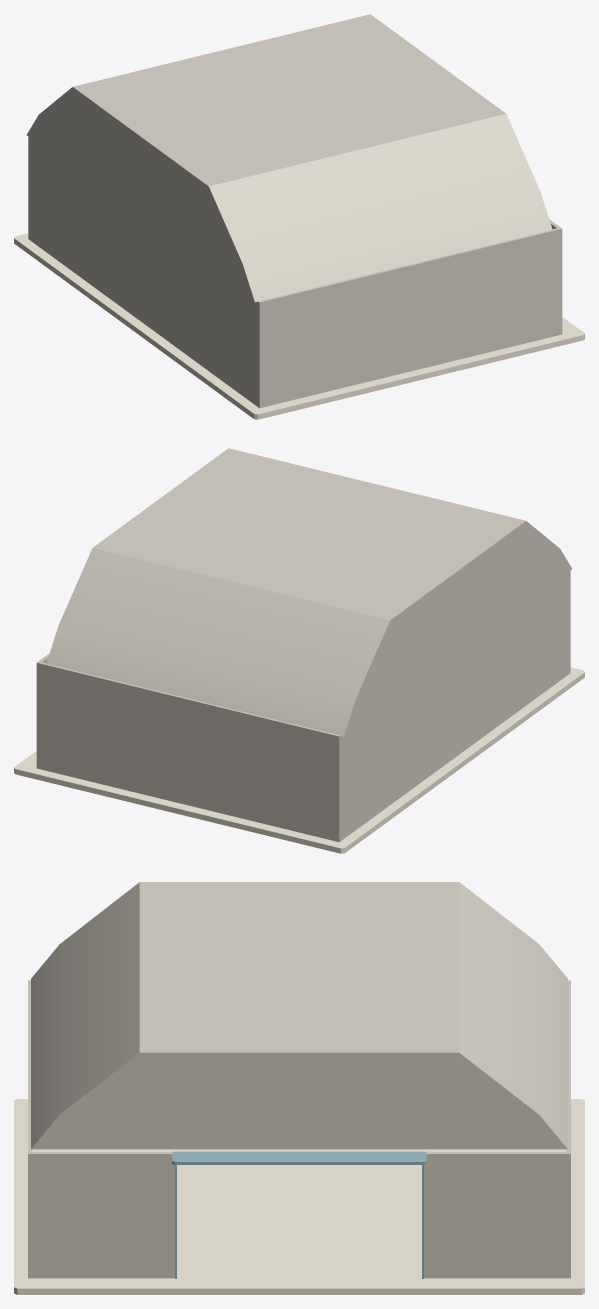
Rendered from Spaceport_Hangar_v4_ShadowProxy.glb.
3 renders of one model, top to bottom at view 1: azimuth 30°, elevation 25°; view 2: azimuth 150°, elevation 25°; view 3: azimuth 270°, elevation 25°, orthographic. The views are drawn at different scales.
Visible parts, largest first — view 1: Spaceport_Hangar_v4_ShadowProxy / Roof, Spaceport_Hangar_v4_ShadowProxy / Structure, Spaceport_Hangar_v4_ShadowProxy / Foundation; view 2: Spaceport_Hangar_v4_ShadowProxy / Roof, Spaceport_Hangar_v4_ShadowProxy / Structure, Spaceport_Hangar_v4_ShadowProxy / Foundation; view 3: Spaceport_Hangar_v4_ShadowProxy / Roof, Spaceport_Hangar_v4_ShadowProxy / Foundation, Spaceport_Hangar_v4_ShadowProxy / Structure, Spaceport_Hangar_v4_ShadowProxy / Entrance modules.
Boxes of the visible parts, x1,y1,x2,y2 form: Spaceport_Hangar_v4_ShadowProxy / Roof: (27, 14, 552, 302); Spaceport_Hangar_v4_ShadowProxy / Structure: (28, 137, 562, 408); Spaceport_Hangar_v4_ShadowProxy / Foundation: (14, 233, 584, 419); Spaceport_Hangar_v4_ShadowProxy / Roof: (46, 448, 571, 736); Spaceport_Hangar_v4_ShadowProxy / Structure: (36, 571, 570, 842); Spaceport_Hangar_v4_ShadowProxy / Foundation: (14, 667, 584, 853); Spaceport_Hangar_v4_ShadowProxy / Roof: (31, 882, 567, 1149); Spaceport_Hangar_v4_ShadowProxy / Foundation: (14, 1099, 584, 1294); Spaceport_Hangar_v4_ShadowProxy / Structure: (28, 980, 570, 1278); Spaceport_Hangar_v4_ShadowProxy / Entrance modules: (172, 1151, 426, 1290).
Bounding box in the file's own units: 22 × 12.28 × 28.
